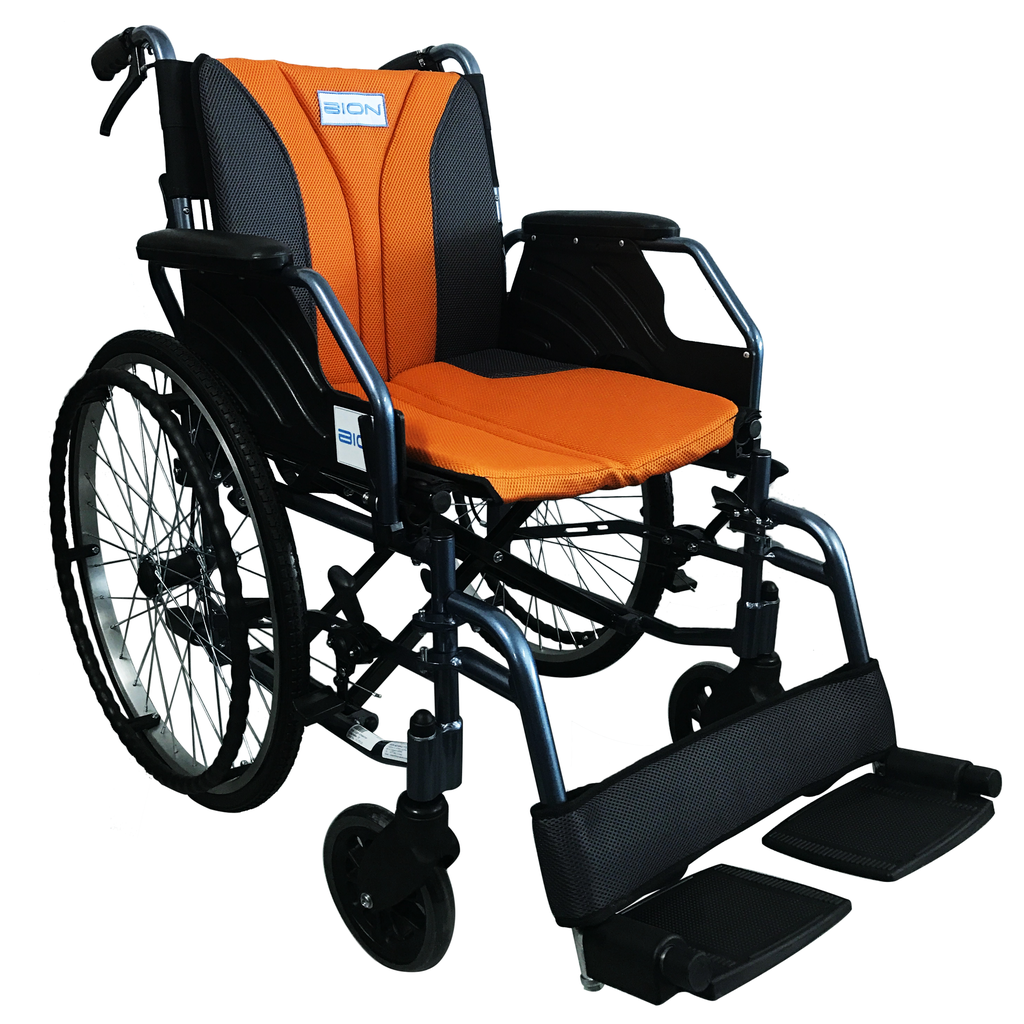wheelchair: (50, 37, 1021, 999)
